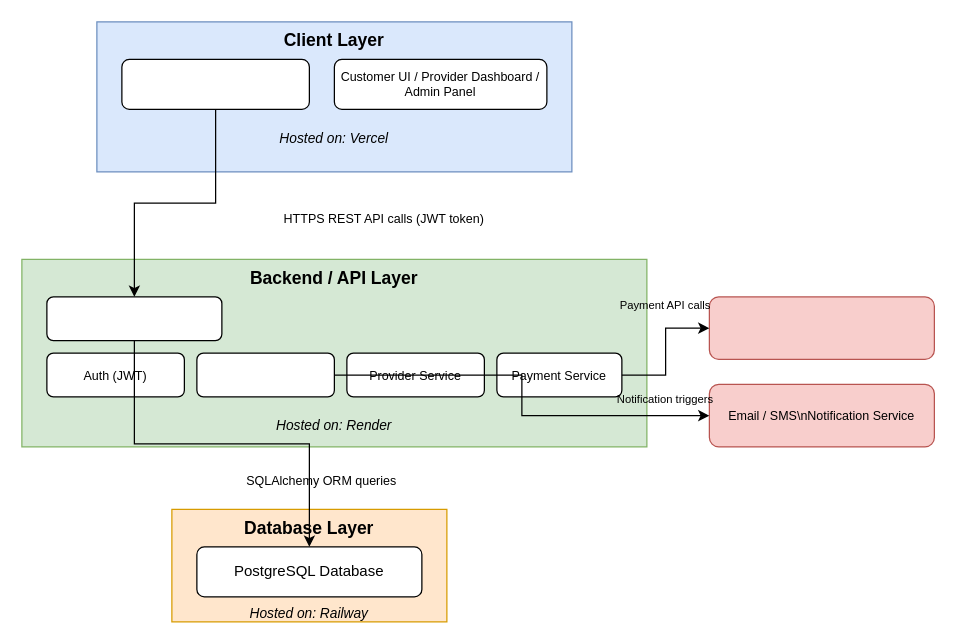
Some shapes in this 956 by 644 pixel diagram are drawn without their labels. Here are the shapes that lost their labels. From the top down, the centre of each, then its label:
the point at 215,83: React.js Frontend (Browser)
the point at 134,318: FastAPI (REST API)
the point at 821,327: Payment Gateway\n(Razorpay/Stripe Sandbox)
the point at 265,374: Booking Service
